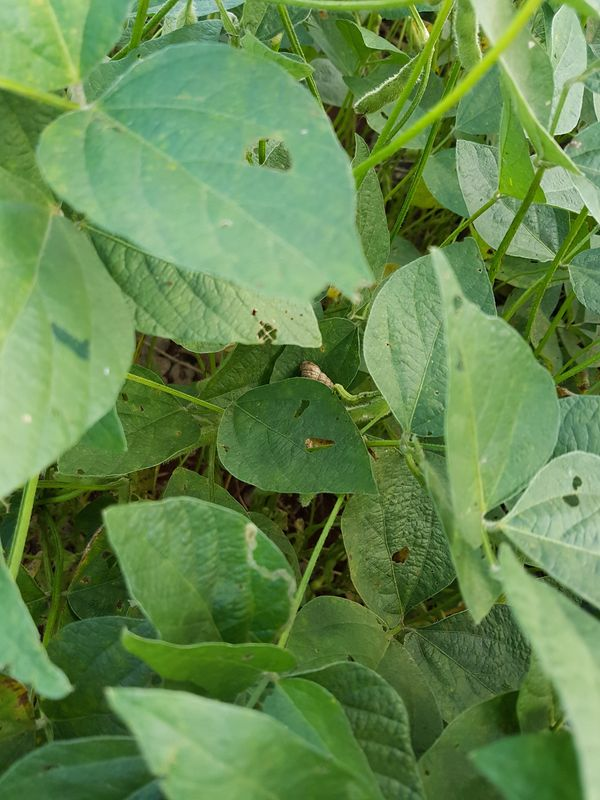Anticarsia_gemmatalis: (334, 376, 387, 410)
Gastropoda: (286, 352, 334, 401)
